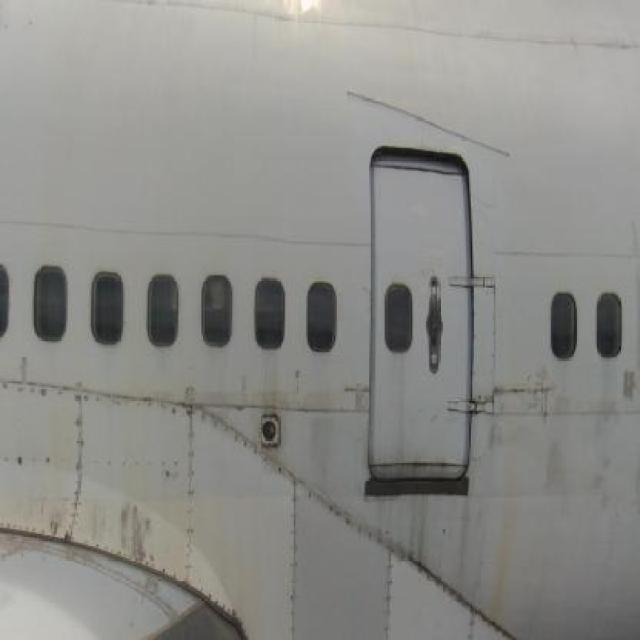Missing-Rivet: (5, 368, 247, 435), (39, 440, 95, 546)
Rust: (488, 430, 521, 627)
Scartch: (108, 484, 167, 582)
